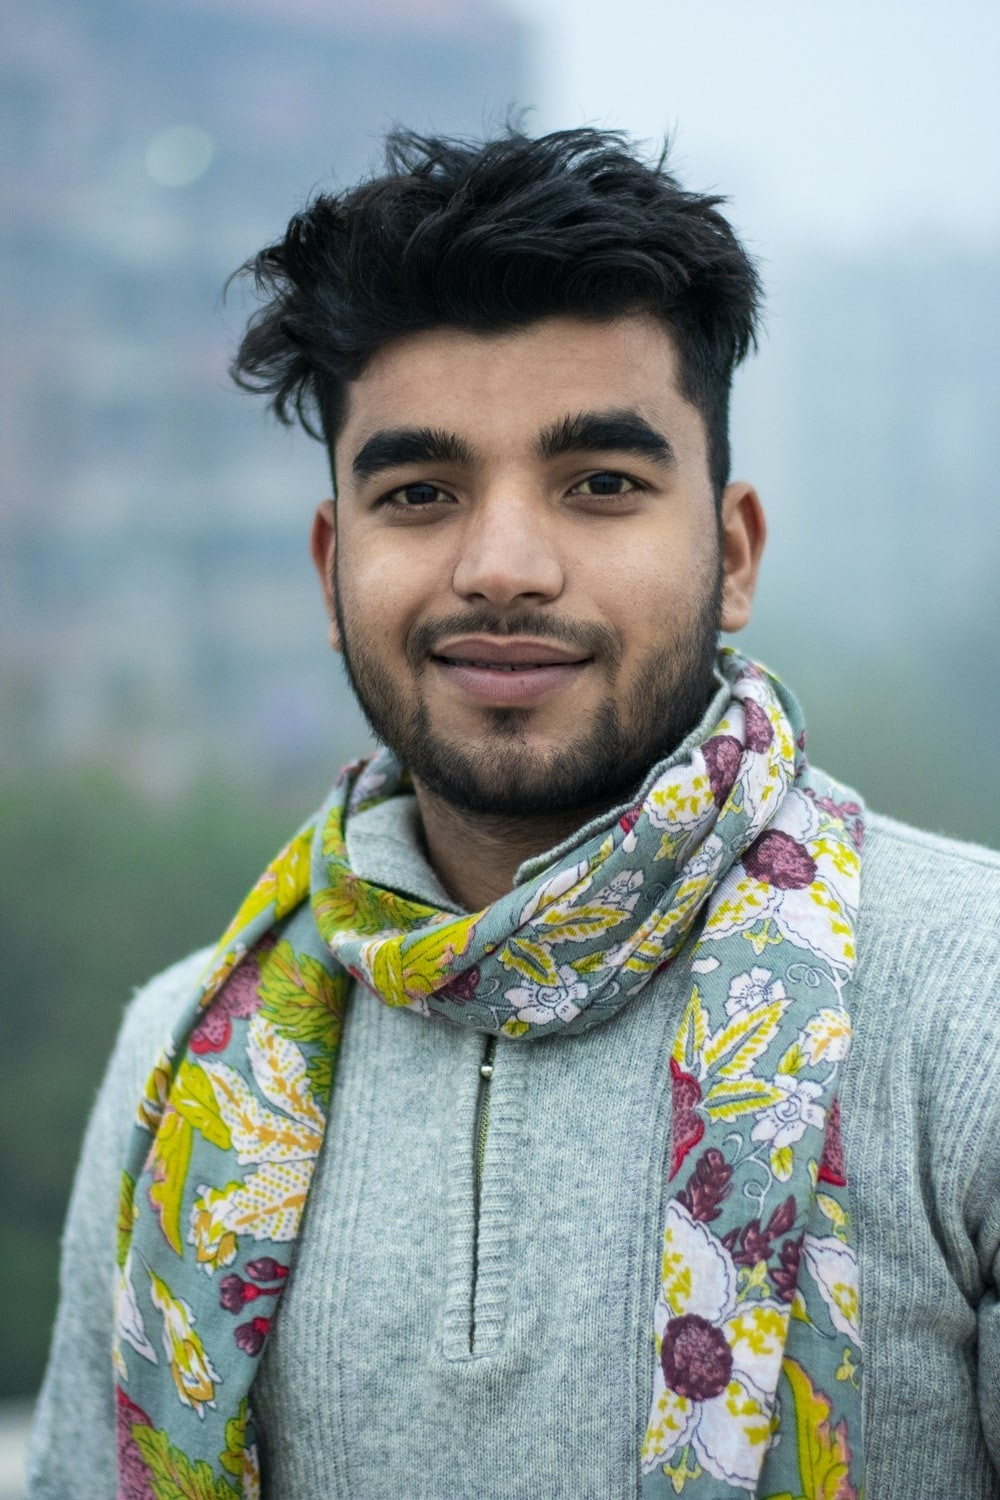face_no_mask: (301, 308, 785, 839)
